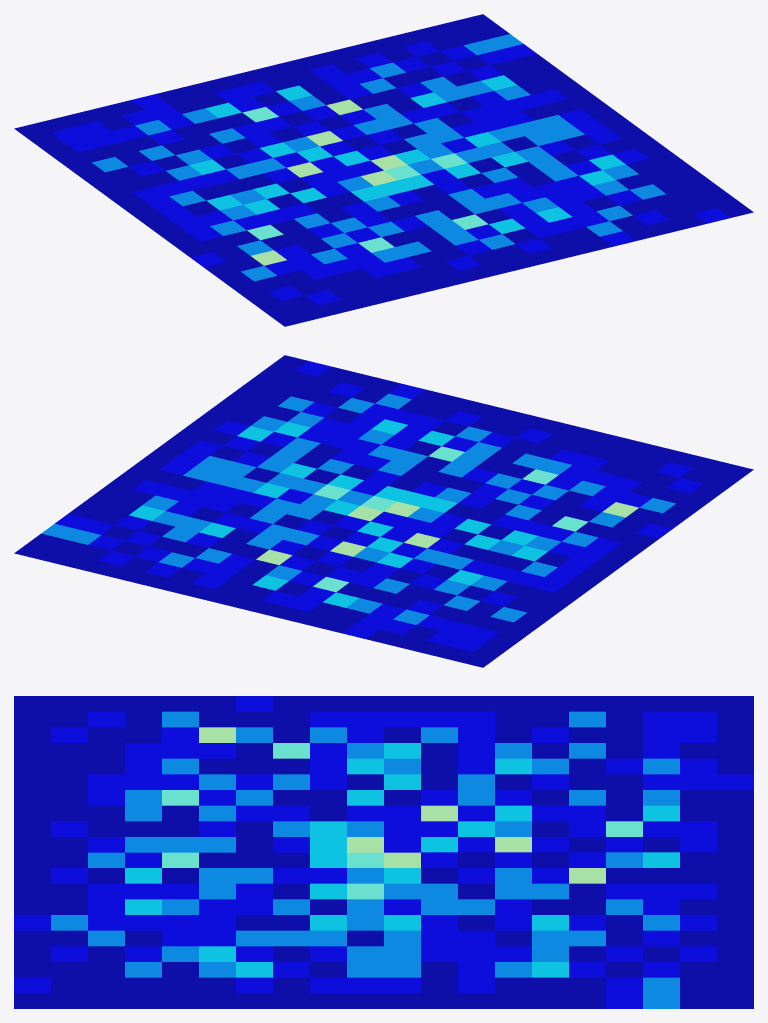
The picture shows the model from 3 angles, top to bottom: view 1: azimuth 30°, elevation 25°; view 2: azimuth 150°, elevation 25°; view 3: azimuth 270°, elevation 25°; orthographic projection. The views are drawn at different scales.
Parts seen in each view (by area): view 1: output3; view 2: output3; view 3: output3.
Boxes of the visible parts, bbox=[...] form: output3: bbox=[14, 14, 753, 326]; output3: bbox=[14, 355, 753, 667]; output3: bbox=[14, 696, 753, 1008].
Bounding box in the file's own units: 20 × 3.37e-06 × 20.
